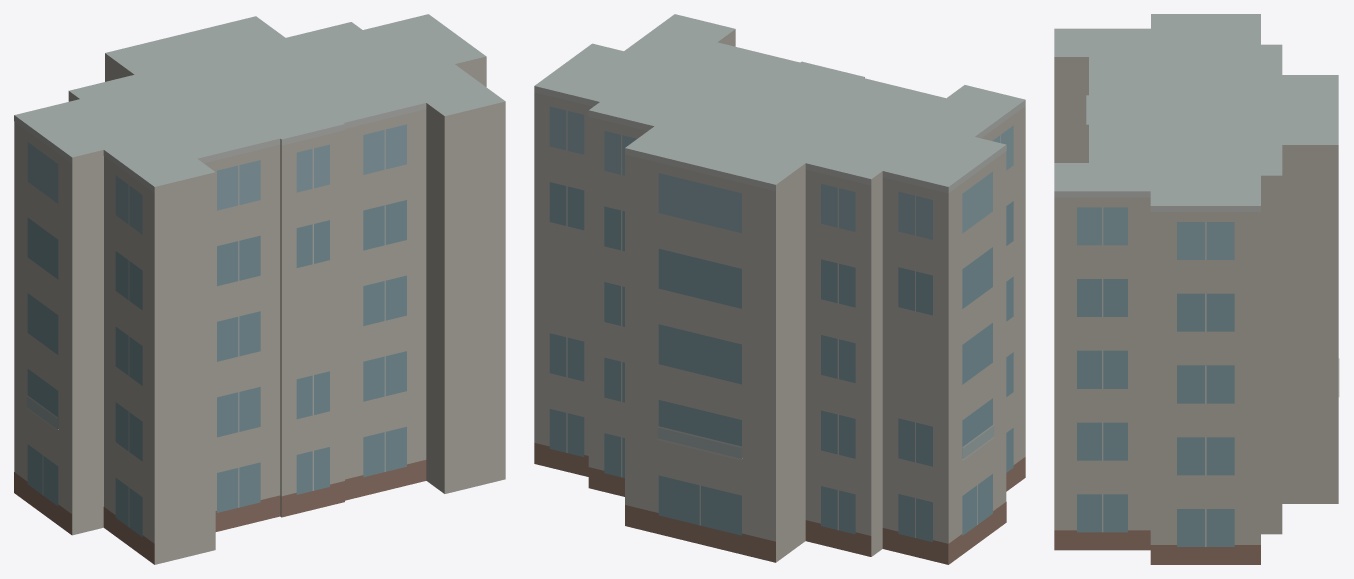
File: survey-upis-32616735.glb
3 renders of one model, left to right at view 1: azimuth 30°, elevation 25°; view 2: azimuth 150°, elevation 25°; view 3: azimuth 270°, elevation 25°, orthographic. The views are drawn at different scales.
Parts seen in each view (by area): view 1: survey-upis-32616735.tmp; view 2: survey-upis-32616735.tmp; view 3: survey-upis-32616735.tmp.
Boxes of the visible parts, box(x1,y1,x2,y2) form: survey-upis-32616735.tmp: box(14, 14, 505, 564); survey-upis-32616735.tmp: box(534, 14, 1025, 564); survey-upis-32616735.tmp: box(1054, 14, 1339, 564).
Size of the model in its own units: 17.03 by 14.8 by 10.67.
